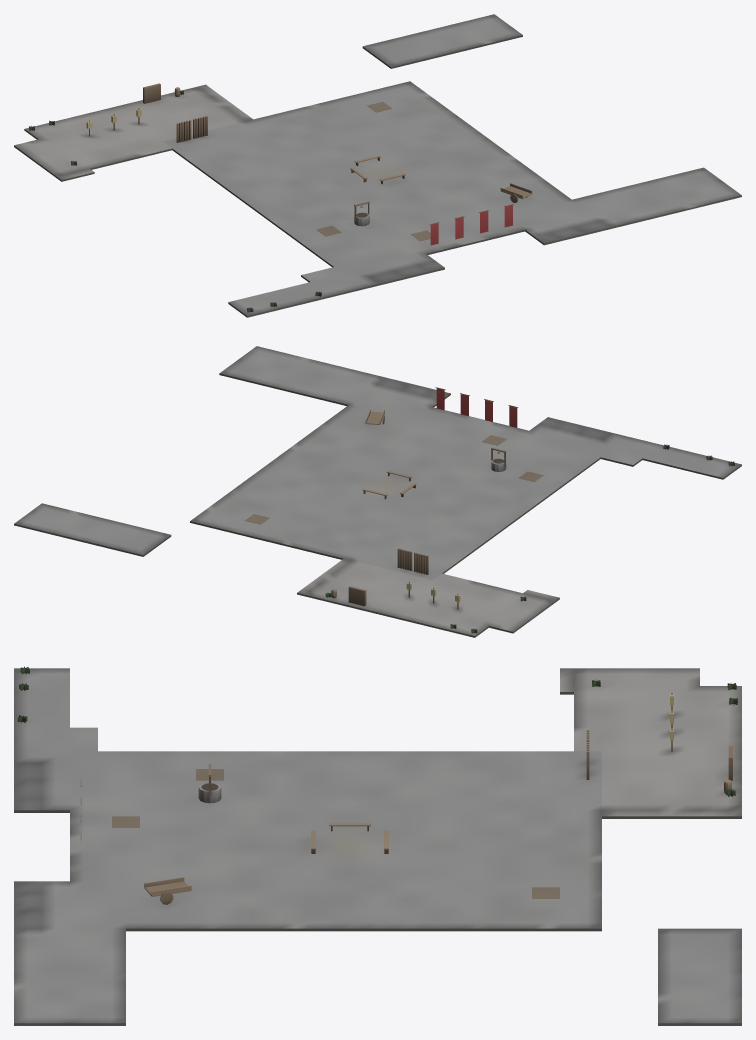
File: courtyard.glb
The picture shows the model from 3 angles, top to bottom: view 1: azimuth 30°, elevation 25°; view 2: azimuth 150°, elevation 25°; view 3: azimuth 270°, elevation 25°; orthographic projection. The views are drawn at different scales.
Visible parts, largest first — view 1: floor_cobble_4.070, floor_cobble_4.067, floor_gravel_4.006, floor_cobble_4.068, floor_cobble_4.072, floor_cobble_4.073, floor_cobble_4.074, floor_cobble_4.075, floor_cobble_4.069, floor_cobble_4.071, floor_cobble_4.064, floor_cobble_4.065 (+78 smaller); view 2: floor_cobble_4.080, floor_cobble_4.078, floor_cobble_4.079, floor_cobble_4.082, floor_cobble_4.028, floor_cobble_4.037, floor_cobble_4.077, floor_cobble_4.083, floor_gravel_4.004, floor_gravel_4.007, floor_cobble_4.081, floor_cobble_4.076 (+78 smaller); view 3: floor_cobble_4.069, floor_cobble_4.075, floor_cobble_4.079, floor_cobble_4.083, floor_cobble_4.019, floor_cobble_4.020, floor_cobble_4.021, floor_cobble_4.022, floor_cobble_4.023, floor_cobble_4.024, floor_cobble_4.048, floor_cobble_4.049 (+87 smaller).
Part boxes in pixels (x1,y1,x2,y2): floor_cobble_4.070: (525, 221, 576, 245); floor_cobble_4.067: (327, 270, 379, 293); floor_gravel_4.006: (96, 140, 147, 163); floor_cobble_4.068: (360, 262, 412, 285); floor_cobble_4.072: (591, 205, 642, 229); floor_cobble_4.073: (624, 197, 675, 220); floor_cobble_4.074: (657, 189, 708, 212); floor_cobble_4.075: (690, 181, 741, 204); floor_cobble_4.069: (393, 254, 444, 277); floor_cobble_4.071: (558, 213, 609, 237); floor_cobble_4.064: (228, 294, 280, 317); floor_cobble_4.065: (261, 286, 313, 309); floor_cobble_4.080: (111, 534, 161, 556); floor_cobble_4.078: (251, 367, 302, 390); floor_cobble_4.079: (219, 359, 269, 382); floor_cobble_4.082: (46, 518, 96, 540); floor_cobble_4.028: (303, 535, 353, 558); floor_cobble_4.037: (271, 527, 321, 550); floor_cobble_4.077: (284, 375, 334, 398); floor_cobble_4.083: (14, 510, 64, 532); floor_gravel_4.004: (410, 607, 460, 629); floor_gravel_4.007: (378, 599, 428, 621); floor_cobble_4.081: (78, 526, 129, 548); floor_cobble_4.076: (316, 383, 366, 405); floor_cobble_4.069: (14, 786, 69, 812); floor_cobble_4.075: (14, 999, 69, 1025); floor_cobble_4.079: (70, 999, 125, 1025); floor_cobble_4.083: (686, 999, 741, 1025); floor_cobble_4.019: (546, 798, 601, 822); floor_cobble_4.020: (490, 798, 545, 822); floor_cobble_4.021: (434, 798, 489, 822); floor_cobble_4.022: (378, 798, 433, 822); floor_cobble_4.023: (322, 798, 377, 822); floor_cobble_4.024: (266, 798, 321, 822); floor_cobble_4.048: (434, 869, 489, 893); floor_cobble_4.049: (378, 869, 433, 893).
Bounding box in the file's own units: 60 × 3.08 × 52.
